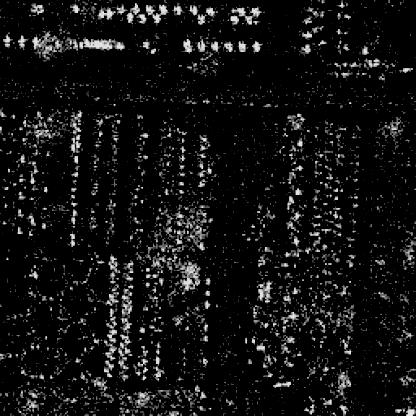airplane: (68, 3, 82, 15), (14, 32, 24, 46), (1, 34, 12, 46), (250, 41, 262, 52), (182, 39, 193, 50), (195, 39, 205, 50), (30, 34, 38, 47), (237, 42, 247, 52), (104, 8, 112, 20), (227, 14, 239, 22), (188, 3, 197, 13), (223, 42, 232, 52), (158, 1, 166, 12), (125, 11, 132, 23), (98, 10, 106, 20), (115, 5, 125, 13), (138, 13, 146, 23), (144, 3, 152, 13), (205, 5, 213, 15), (244, 16, 254, 24), (210, 40, 218, 50), (236, 6, 245, 14), (249, 6, 258, 14), (151, 13, 159, 21), (172, 5, 180, 13), (197, 13, 203, 23), (132, 3, 138, 12)
